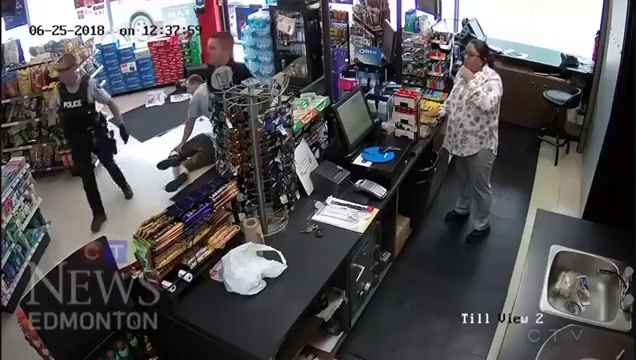face: (461, 42, 486, 71), (205, 36, 225, 63), (54, 58, 73, 85)
